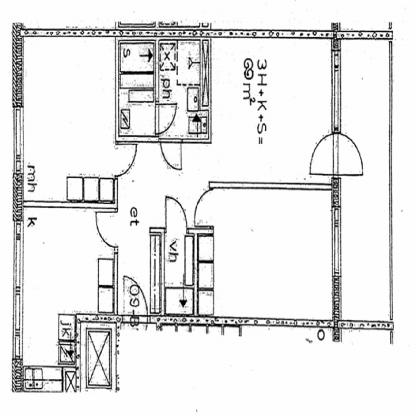door: (310, 132, 364, 179), (122, 274, 151, 330), (93, 209, 120, 248), (165, 196, 190, 231), (162, 137, 186, 171), (194, 188, 214, 226), (115, 147, 138, 177), (155, 104, 179, 131)
window: (13, 220, 22, 359), (331, 48, 343, 134), (12, 107, 24, 174), (331, 206, 342, 276)
zone: (117, 36, 332, 320), (24, 206, 115, 393), (23, 35, 116, 204), (341, 38, 390, 321), (119, 37, 209, 141)
